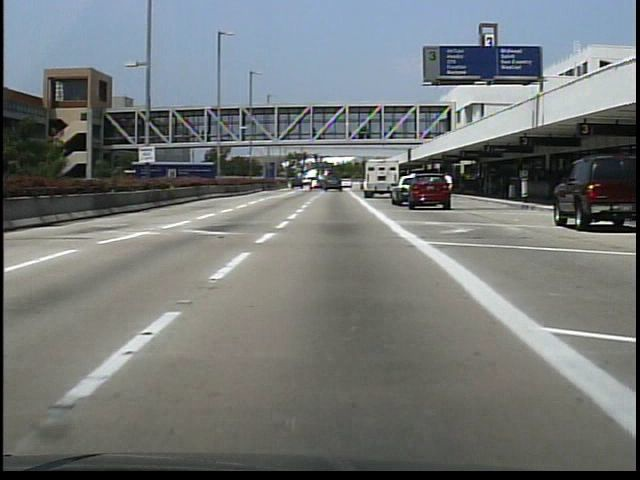person: (440, 174, 458, 209)
